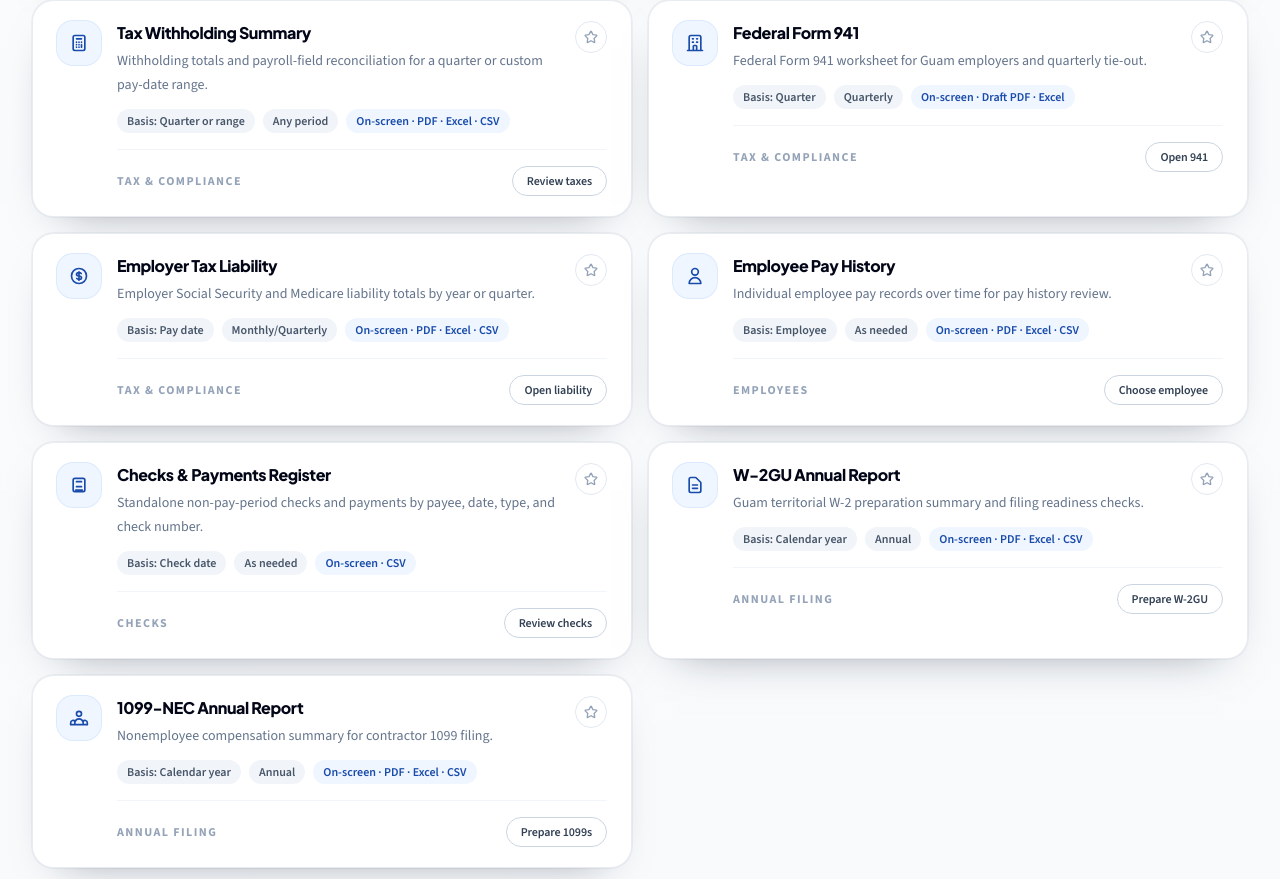
Reports library navigation › moves focus to the selected report so it is discoverable below the library
(page scrolled)
Click the button "Review checks" at (555,623), box [504,608,607,638]
(page scrolled)
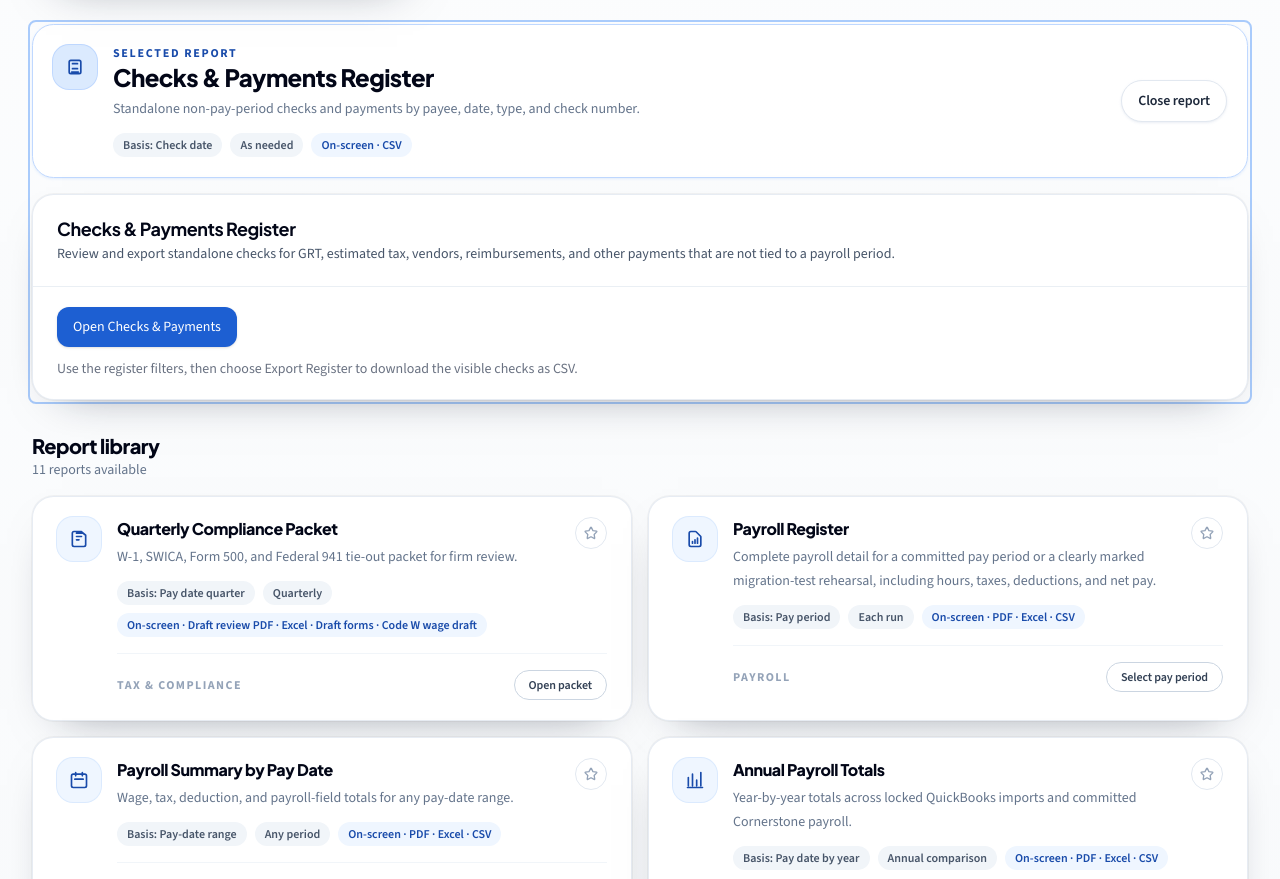
Expected: the link to "/checks-payments" is shown, [57,307,237,347]
